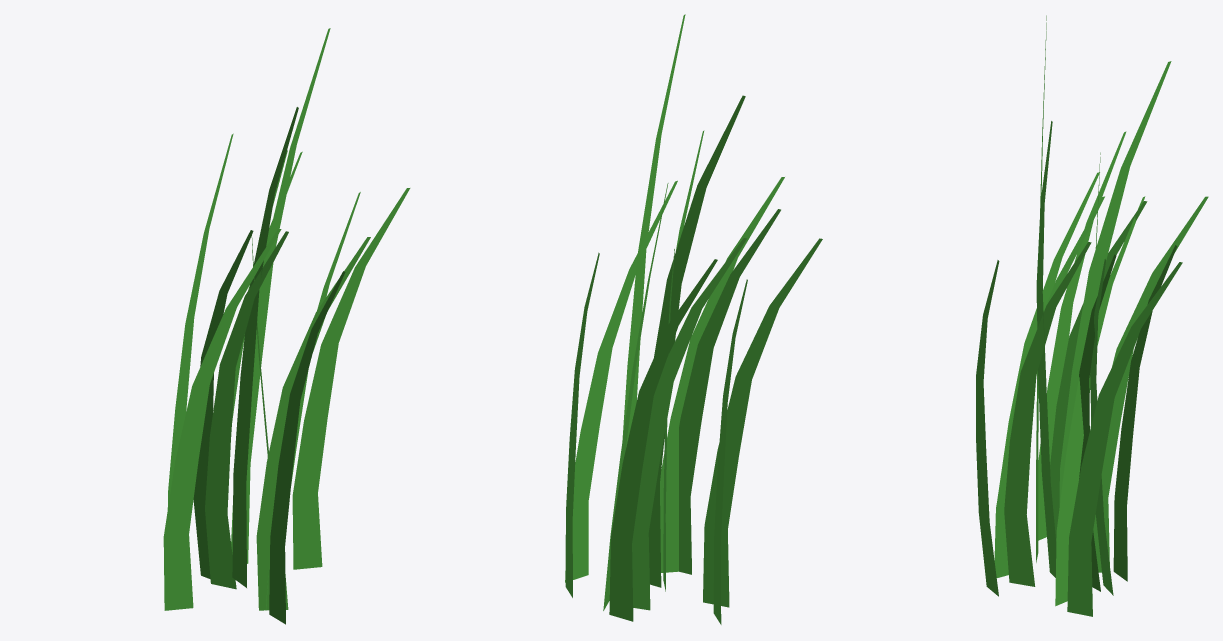
The model's file is grass.glb.
The picture shows the model from 3 angles, left to right: view 1: azimuth 30°, elevation 25°; view 2: azimuth 150°, elevation 25°; view 3: azimuth 270°, elevation 25°; orthographic projection. The views are drawn at different scales.
Parts seen in each view (by area): view 1: Plane023, Plane017, Plane018, Plane002, Plane021, Plane008, Plane005, Plane012, Plane011, Plane020; view 2: Plane010, Plane025, Plane029, Plane019, Plane016, Plane006, Plane004, Plane002, Plane014, Plane026, Plane012, Plane007; view 3: Plane015, Plane009, Plane003, Plane014, Plane011, Plane026, Plane028, Plane005, Plane020, Plane024, Plane022, Plane027 (+3 smaller).
Boxes of the visible parts, x1=… form: Plane023: x1=163, y1=229, x2=281, y2=610; Plane017: x1=292, y1=188, x2=410, y2=569; Plane018: x1=205, y1=231, x2=288, y2=589; Plane002: x1=232, y1=107, x2=298, y2=587; Plane021: x1=269, y1=271, x2=345, y2=624; Plane008: x1=256, y1=237, x2=370, y2=610; Plane005: x1=231, y1=28, x2=330, y2=563; Plane012: x1=193, y1=230, x2=253, y2=579; Plane011: x1=167, y1=133, x2=233, y2=509; Plane020: x1=265, y1=192, x2=360, y2=610; Plane010: x1=609, y1=259, x2=717, y2=621; Plane025: x1=703, y1=238, x2=822, y2=607; Plane029: x1=632, y1=238, x2=746, y2=610; Plane019: x1=679, y1=209, x2=780, y2=574; Plane016: x1=565, y1=180, x2=677, y2=582; Plane006: x1=660, y1=177, x2=784, y2=572; Plane004: x1=648, y1=95, x2=745, y2=587; Plane002: x1=622, y1=14, x2=685, y2=449; Plane014: x1=565, y1=252, x2=599, y2=597; Plane026: x1=713, y1=279, x2=747, y2=624; Plane012: x1=603, y1=183, x2=668, y2=610; Plane007: x1=663, y1=249, x2=674, y2=591; Plane015: x1=1067, y1=262, x2=1182, y2=616; Plane009: x1=1004, y1=242, x2=1091, y2=586; Plane003: x1=1059, y1=61, x2=1171, y2=505; Plane014: x1=1055, y1=196, x2=1145, y2=606; Plane011: x1=1113, y1=245, x2=1177, y2=581; Plane026: x1=1038, y1=131, x2=1126, y2=540; Plane028: x1=1093, y1=196, x2=1208, y2=572; Plane005: x1=1036, y1=121, x2=1056, y2=577; Plane020: x1=976, y1=260, x2=999, y2=596; Plane024: x1=1050, y1=201, x2=1147, y2=540; Plane022: x1=994, y1=196, x2=1104, y2=577; Plane027: x1=1079, y1=254, x2=1116, y2=591.
Bounding box in the file's own units: 239 × 364 × 231.
